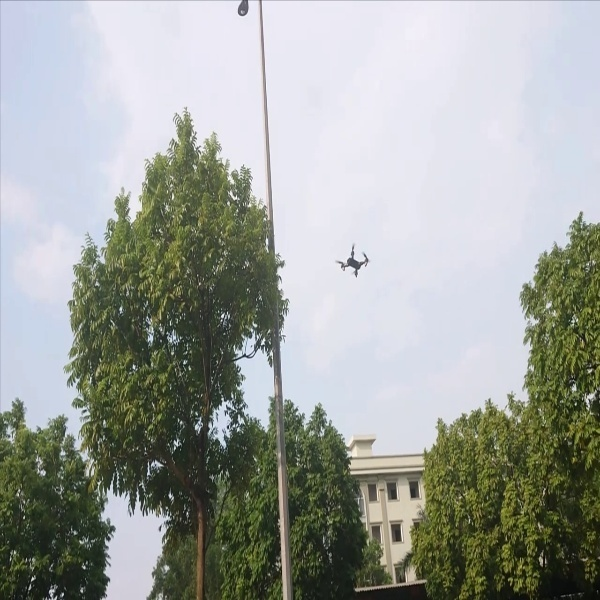drone: (327, 240, 378, 282)
